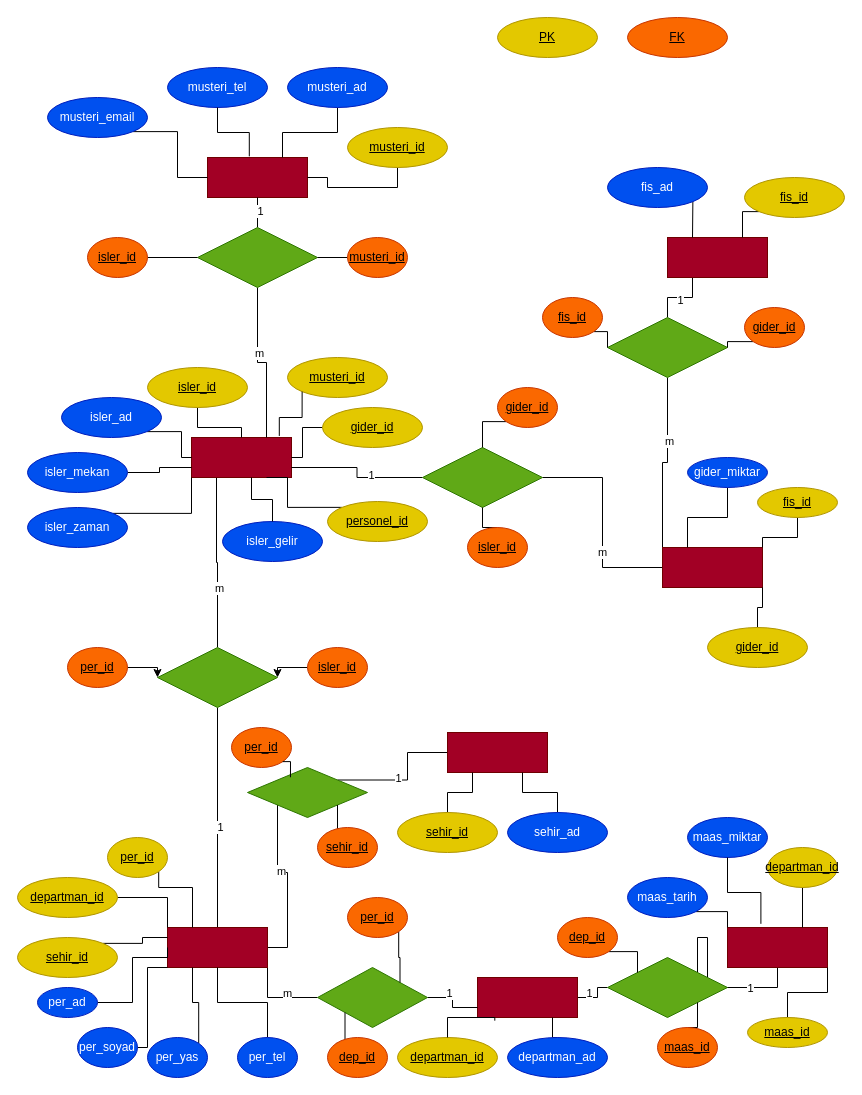
Some shapes in this 862 by 1095 pixel diagram are drawn without their labels. Each missing label, with the box of its shape:
depart_maas: (606, 956, 728, 1018)
departmanlar: (476, 976, 578, 1018)
fisler: (666, 236, 768, 278)
fisler_giderler: (606, 316, 728, 378)
giderler: (662, 546, 762, 588)
isler: (190, 436, 292, 478)
isler_gider: (422, 446, 542, 508)
maaslar: (726, 926, 828, 968)
musteri_is: (196, 226, 318, 288)
müşteri: (206, 156, 308, 198)
personel: (166, 926, 268, 968)
personel_depart: (316, 966, 428, 1028)
personel_is: (156, 646, 278, 708)
personel_sehir: (246, 766, 368, 818)
sehirler: (446, 732, 548, 772)
